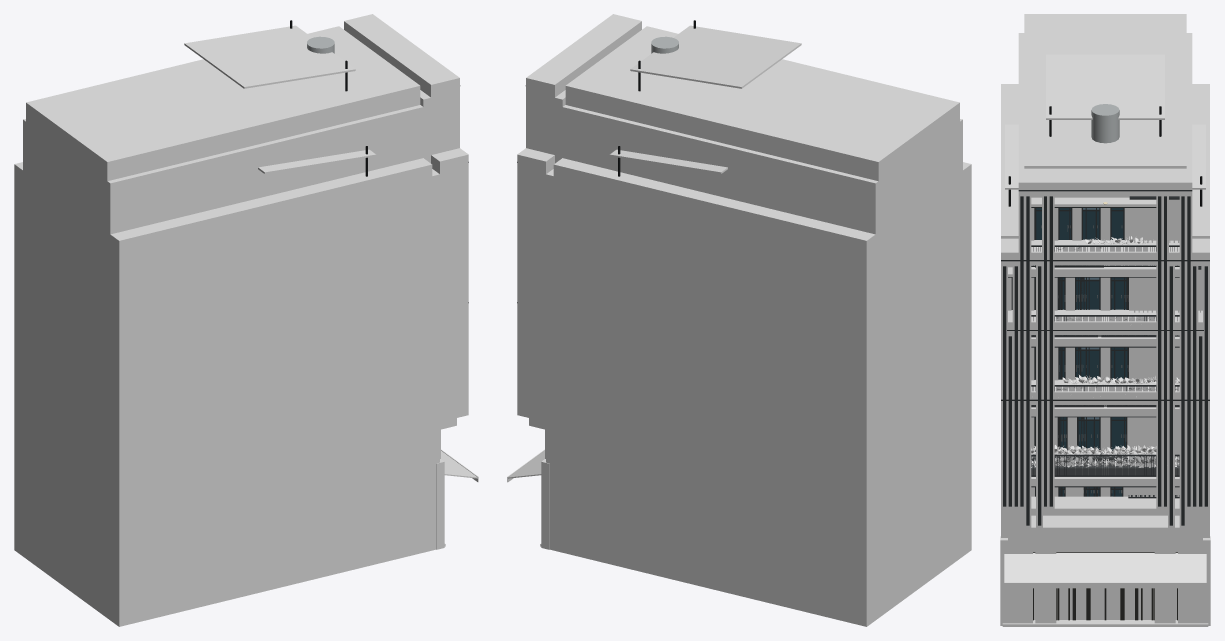
The model's file is OW_NhaNoiBat_MatTien21289.fbx.
3 views of the same model, side by side, from view 1: azimuth 30°, elevation 25°; view 2: azimuth 150°, elevation 25°; view 3: azimuth 270°, elevation 25° (orthographic).
Parts seen in each view (by area): view 1: OW_NhaPho_4006, OW_NhaPho_4010, OW_NhaPho_4002, OW_NhaPho_4000, OW_NhaPho_4013, OW_NhaPho_4007, OW_NhaPho_4011, OW_NhaPho_4005, OW_NhaPho_4001, OW_NhaPho_4012; view 2: OW_NhaPho_4006, OW_NhaPho_4002, OW_NhaPho_4011, OW_NhaPho_4013, OW_NhaPho_4010, OW_NhaPho_4000, OW_NhaPho_4005, OW_NhaPho_4001, OW_NhaPho_4007, OW_NhaPho_4012; view 3: OW_NhaPho_4002, OW_NhaPho_4000, OW_NhaPho_4006, OW_NhaPho_4010, OW_NhaPho_4005, OW_NhaPho_4001, OW_NhaPho_4013, OW_NhaPho_4007, OW_NhaPho_4012, OW_NhaPho_4009, OW_NhaPho_4011, OW_NhaPho_4003 (+2 smaller).
Part boxes in pixels (box(x1,y1,x2,y2)): OW_NhaPho_4006: box(14, 146, 478, 626); OW_NhaPho_4010: box(26, 16, 456, 529); OW_NhaPho_4002: box(34, 20, 447, 426); OW_NhaPho_4000: box(20, 148, 471, 622); OW_NhaPho_4013: box(23, 14, 469, 545); OW_NhaPho_4007: box(26, 243, 453, 617); OW_NhaPho_4011: box(14, 295, 468, 540); OW_NhaPho_4005: box(37, 24, 454, 516); OW_NhaPho_4001: box(32, 177, 459, 562); OW_NhaPho_4012: box(17, 256, 474, 558); OW_NhaPho_4006: box(507, 146, 971, 626); OW_NhaPho_4002: box(528, 20, 951, 530); OW_NhaPho_4011: box(517, 295, 971, 540); OW_NhaPho_4013: box(516, 14, 962, 470); OW_NhaPho_4010: box(529, 16, 959, 527); OW_NhaPho_4000: box(516, 148, 965, 622); OW_NhaPho_4005: box(532, 25, 948, 459); OW_NhaPho_4001: box(525, 177, 953, 501); OW_NhaPho_4007: box(525, 243, 959, 616); OW_NhaPho_4012: box(510, 256, 968, 553); OW_NhaPho_4002: box(1041, 14, 1169, 626); OW_NhaPho_4000: box(1012, 238, 1198, 626); OW_NhaPho_4006: box(1000, 84, 1210, 626); OW_NhaPho_4010: box(1024, 14, 1186, 540); OW_NhaPho_4005: box(1047, 14, 1163, 626); OW_NhaPho_4001: box(1035, 239, 1175, 626); OW_NhaPho_4013: box(1018, 33, 1192, 626); OW_NhaPho_4007: box(1023, 309, 1187, 626); OW_NhaPho_4012: box(1006, 309, 1204, 626); OW_NhaPho_4009: box(1036, 252, 1174, 536); OW_NhaPho_4011: box(1001, 379, 1209, 537); OW_NhaPho_4003: box(1049, 244, 1157, 484).
Size of the model in its own units: 17.77 by 22.91 by 9.
